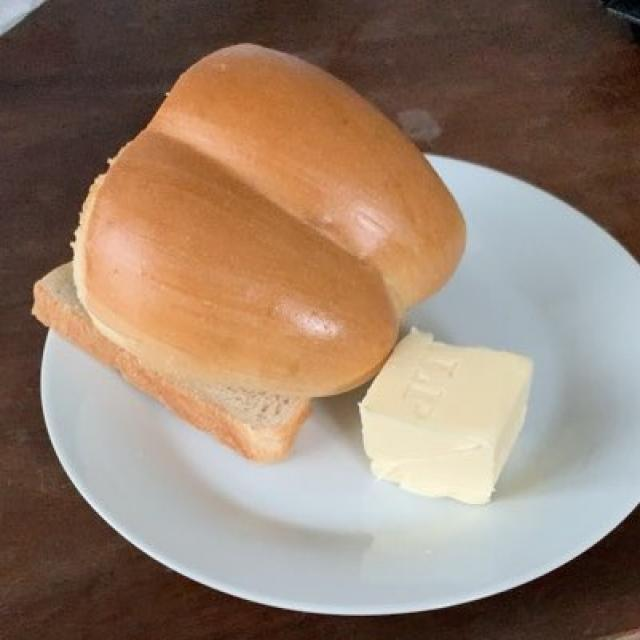bread: (32, 35, 480, 460)
butter: (366, 334, 531, 503)
